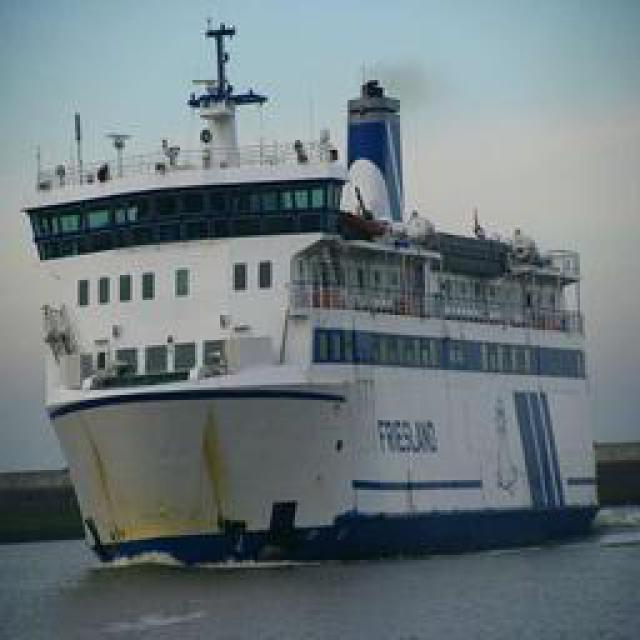Ship: (35, 27, 598, 565)
